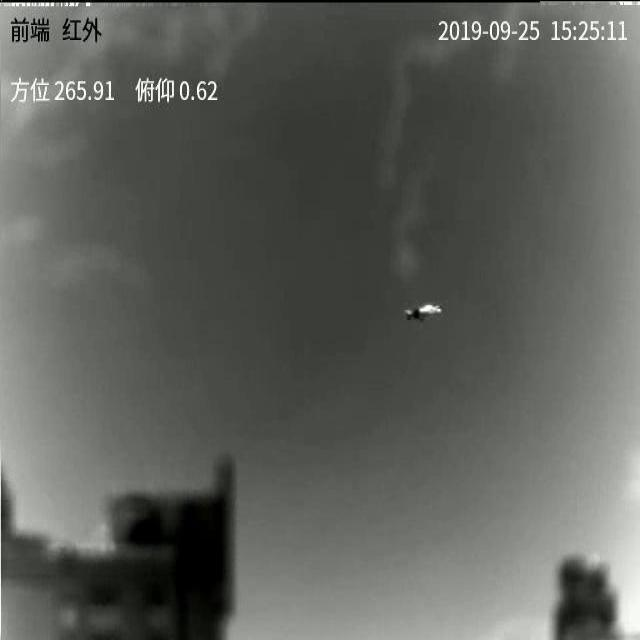drone: (404, 304, 442, 321)
